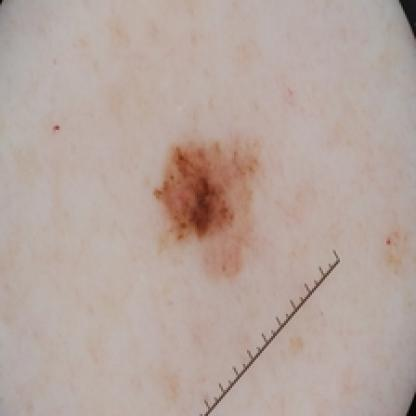Skin_Cancer-Malignant: (156, 133, 269, 279)
